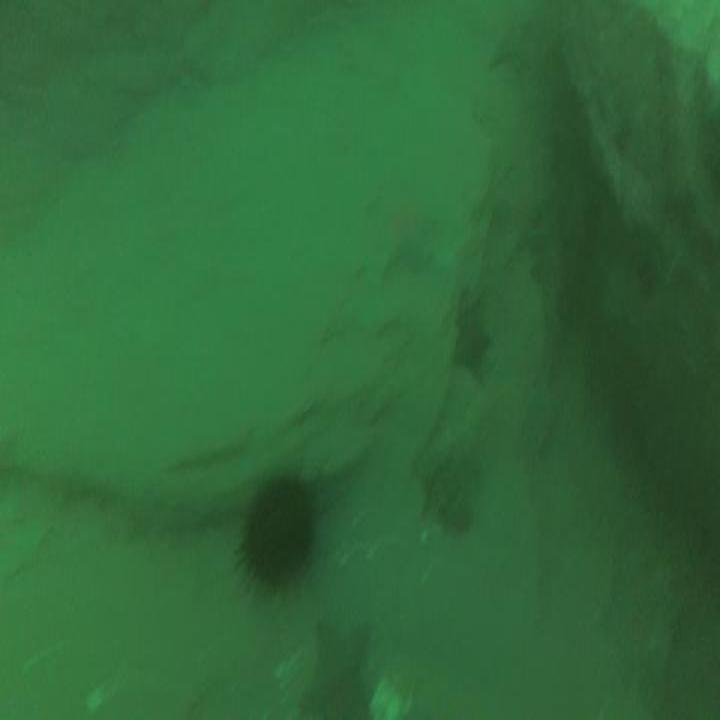echinus: (230, 459, 330, 602)
starfish: (479, 163, 555, 274), (514, 377, 568, 478), (375, 203, 437, 286), (445, 295, 491, 393), (555, 174, 607, 256)
